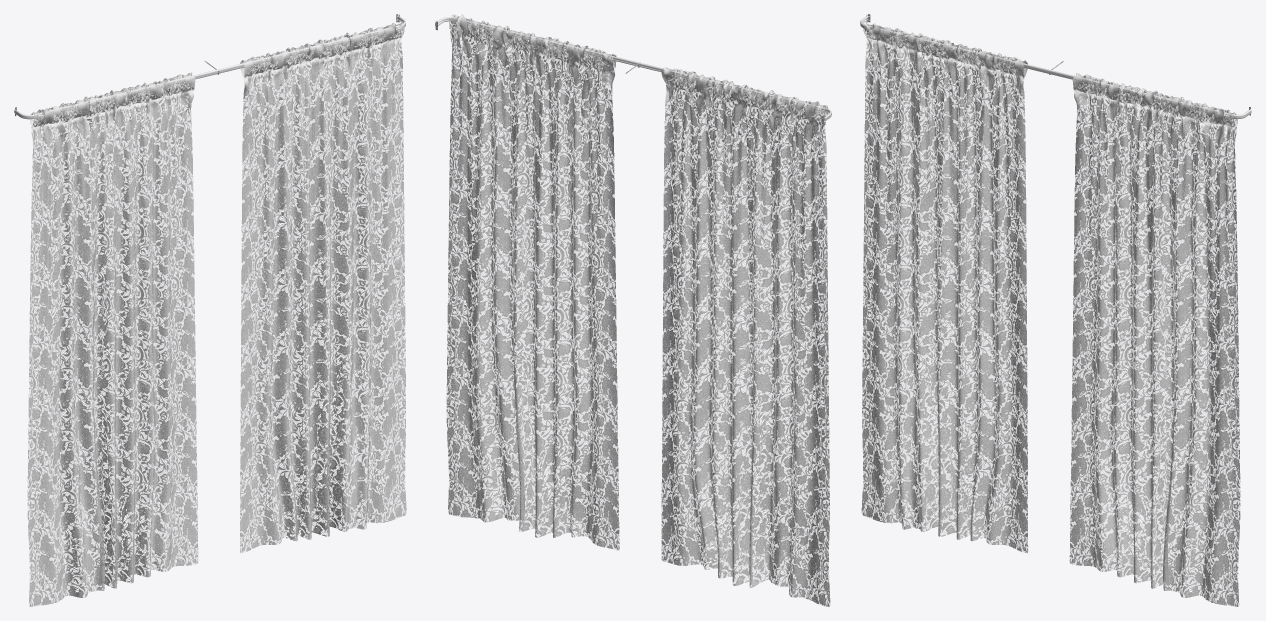
Rendered from visillo2.glb.
The picture shows the model from 3 angles, left to right: view 1: azimuth 30°, elevation 25°; view 2: azimuth 150°, elevation 25°; view 3: azimuth 330°, elevation 25°; orthographic projection.
Parts seen in each view (by area): view 1: SHEER.001, VISILLO SENCILLO - VARILLA 36MM LISA - VARILLA 40MM LISA-1, VISILLO SENCILLO - VARILLA 36MM LISA - VARILLA 36MM LISA-1; view 2: SHEER.001, VISILLO SENCILLO - VARILLA 36MM LISA - VARILLA 40MM LISA-1, VISILLO SENCILLO - VARILLA 36MM LISA - VARILLA 36MM LISA-1; view 3: SHEER.001, VISILLO SENCILLO - VARILLA 36MM LISA - VARILLA 40MM LISA-1.
Boxes of the visible parts, box(x1,y1,x2,y2) form: SHEER.001: box(27, 22, 406, 606); VISILLO SENCILLO - VARILLA 36MM LISA - VARILLA 40MM LISA-1: box(199, 15, 405, 78); VISILLO SENCILLO - VARILLA 36MM LISA - VARILLA 36MM LISA-1: box(14, 74, 199, 119); SHEER.001: box(446, 14, 830, 606); VISILLO SENCILLO - VARILLA 36MM LISA - VARILLA 40MM LISA-1: box(435, 17, 658, 71); VISILLO SENCILLO - VARILLA 36MM LISA - VARILLA 36MM LISA-1: box(611, 57, 831, 121); SHEER.001: box(861, 22, 1240, 606); VISILLO SENCILLO - VARILLA 36MM LISA - VARILLA 40MM LISA-1: box(1030, 65, 1251, 119).
Bounding box in the file's own units: 2.01 × 2.48 × 0.1869.
3 materials, 1 textured.
